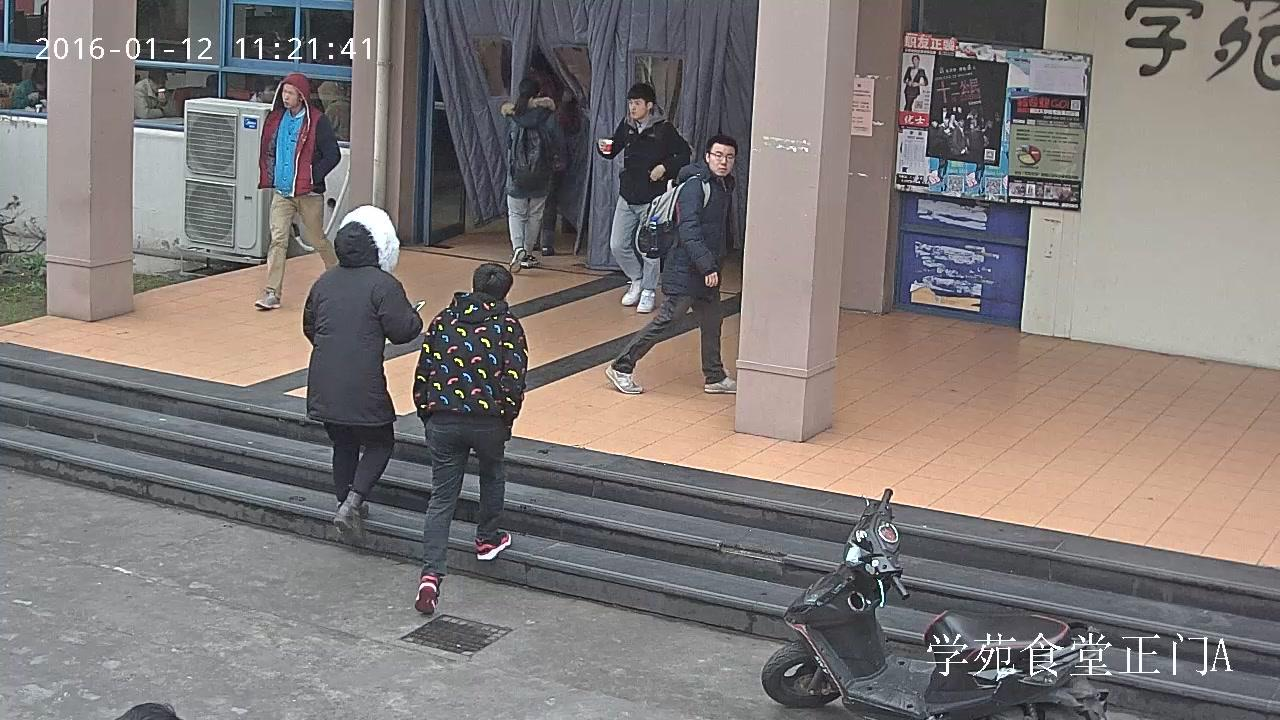person: (412, 263, 527, 616), (302, 206, 423, 539), (605, 133, 737, 392), (596, 83, 691, 313), (253, 75, 341, 308), (501, 73, 559, 272), (133, 69, 180, 119), (315, 80, 349, 141), (9, 66, 46, 110), (902, 54, 927, 112)
